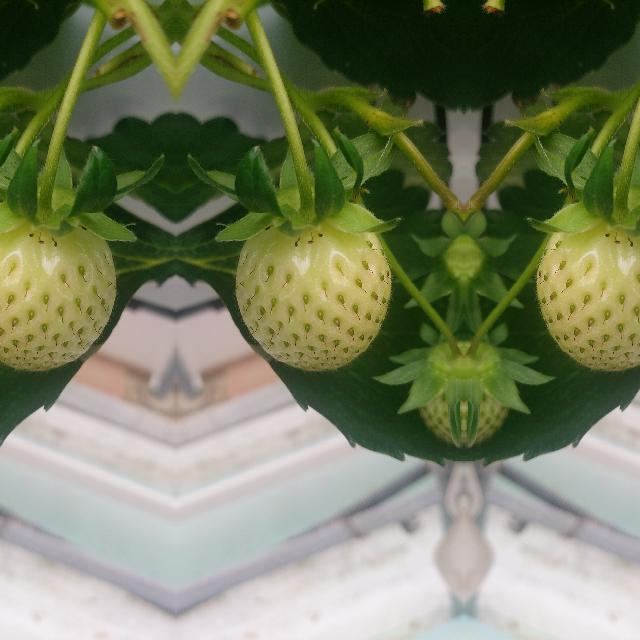Health_25: (234, 220, 390, 370), (0, 220, 115, 370), (536, 220, 640, 370), (404, 334, 462, 456), (464, 334, 522, 456)
